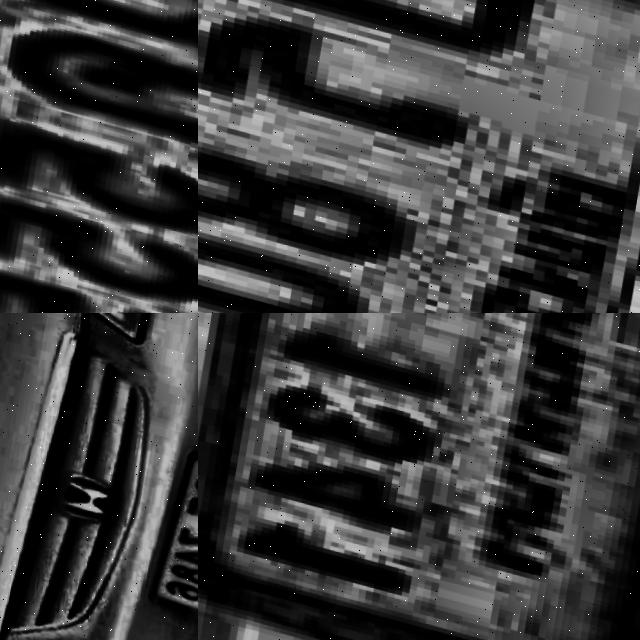license-plate: (198, 313, 640, 640), (198, 0, 640, 313), (0, 0, 198, 313), (139, 420, 198, 633)
